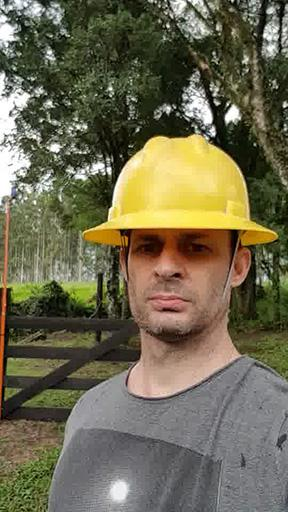Vara_Manobra: (1, 200, 13, 410)
